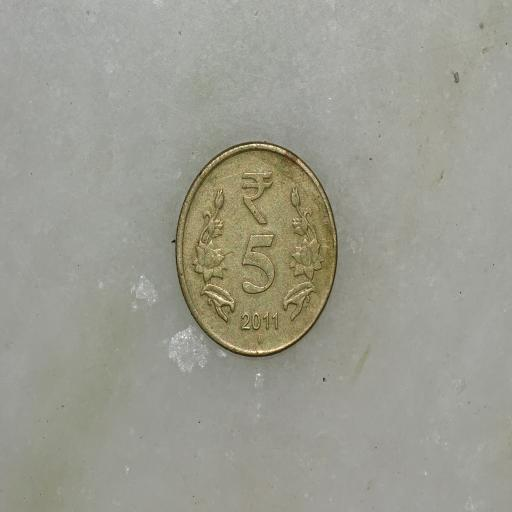rupee5: (171, 137, 343, 360)
